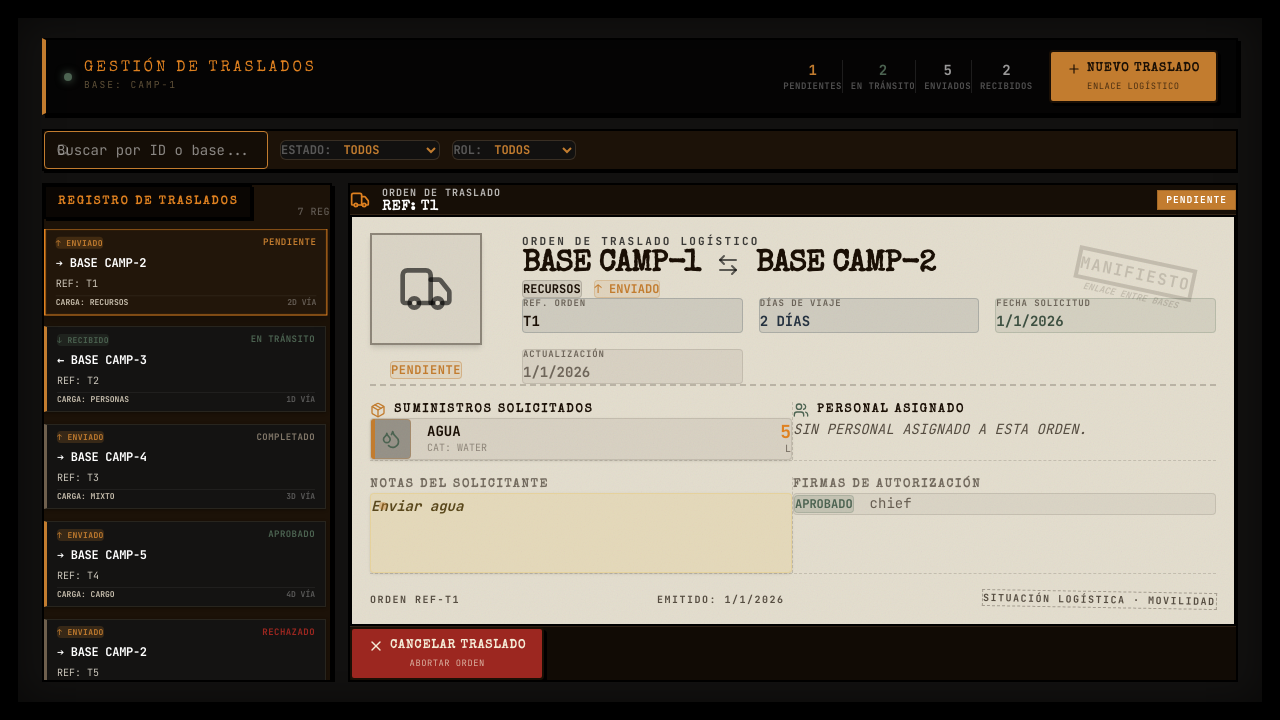
TravelTransfers › opens the new transfer modal when the button is clicked
Click the text "Nuevo traslado" at (1133, 69), box [1067,60,1200,78]
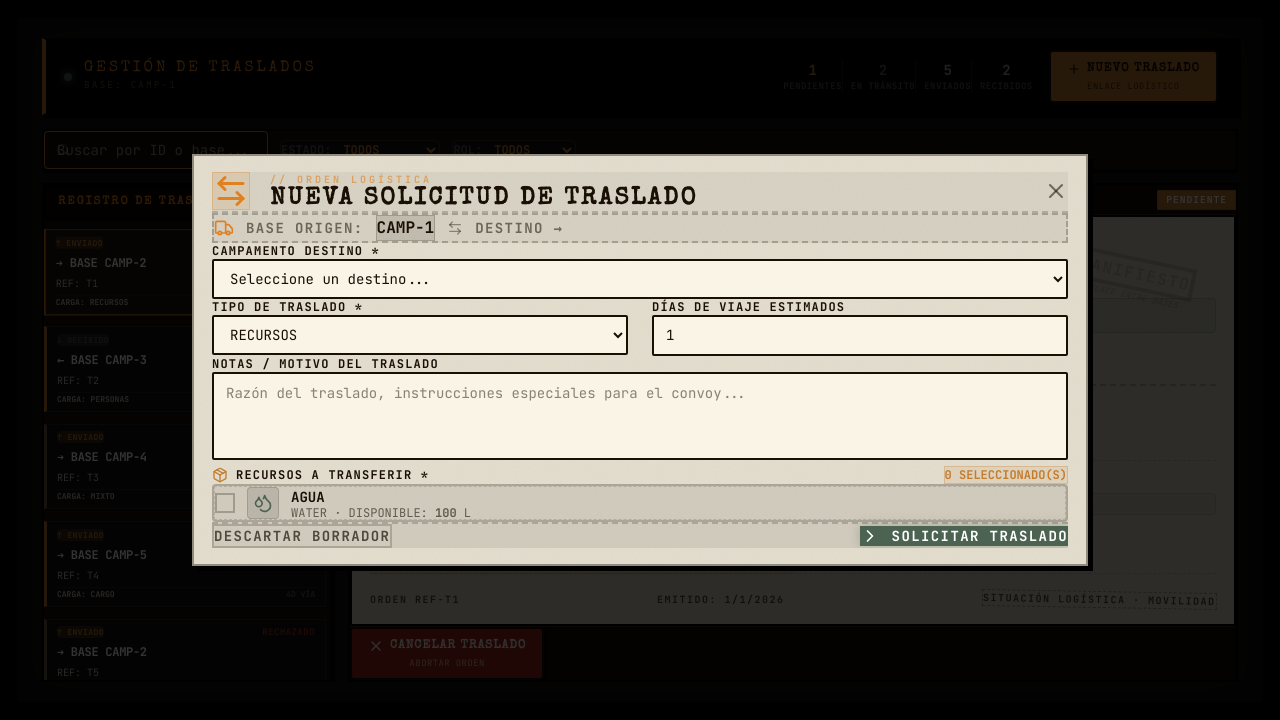
Result: the heading "Nueva Solicitud de Traslado" is shown at [270,187,698,211]
Result: the text "Campamento Destino *" is shown at [212,243,380,259]
Result: the text "Tipo de Traslado *" is shown at [212,299,363,315]
